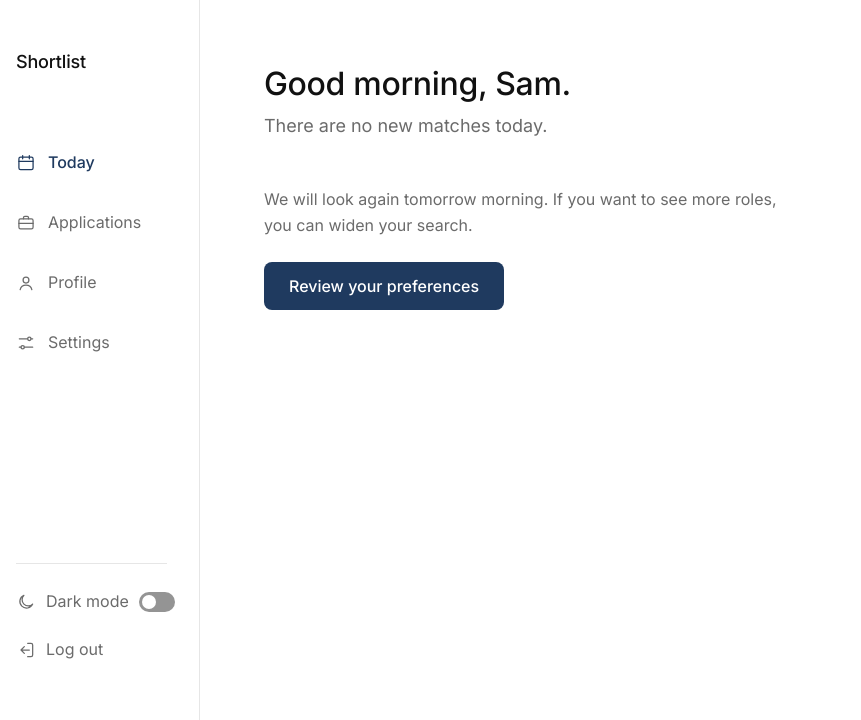
Test: dark mode and log out › logs out from the sidebar and shows Signed out
The width and height of the screenshot is (861, 720).
Click the button "Log out".
click(92, 650)  # box [16,628,167,672]
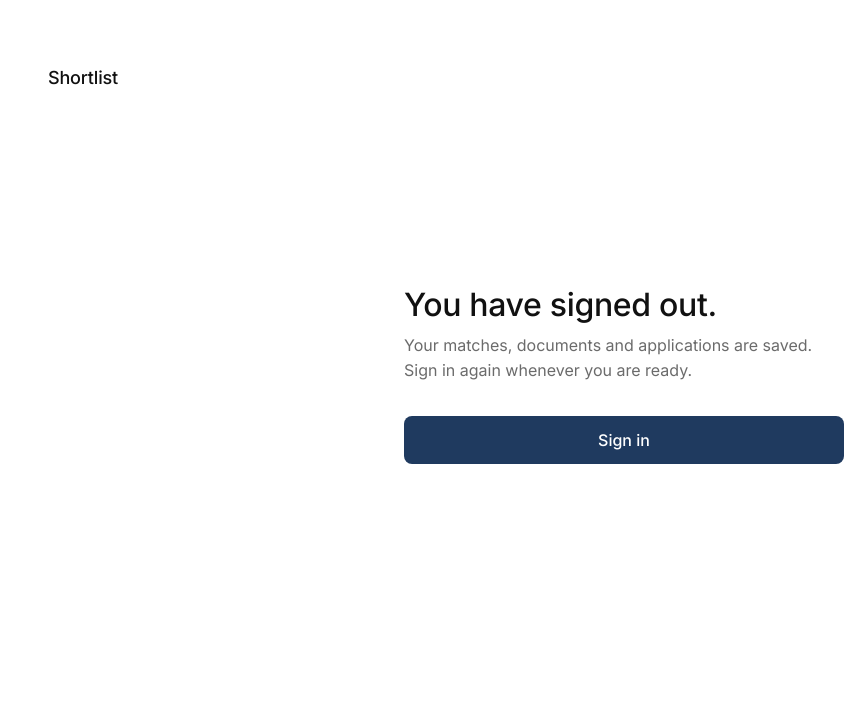
Check: the heading "You have signed out." is shown, box [404,285,717,324]
